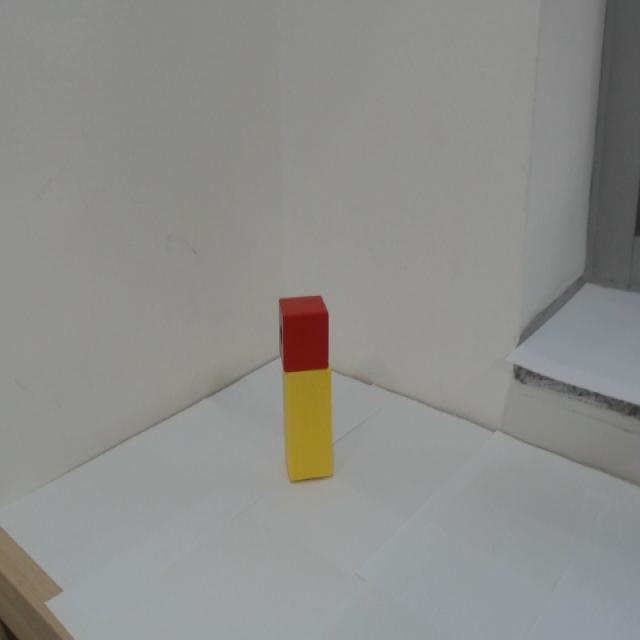cube: (271, 295, 335, 373)
